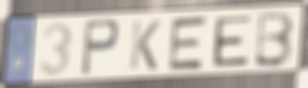3: (39, 20, 77, 79)
B: (252, 8, 297, 69)
E: (165, 14, 211, 74), (212, 13, 254, 69)
K: (127, 19, 163, 72)
P: (78, 17, 122, 78)
